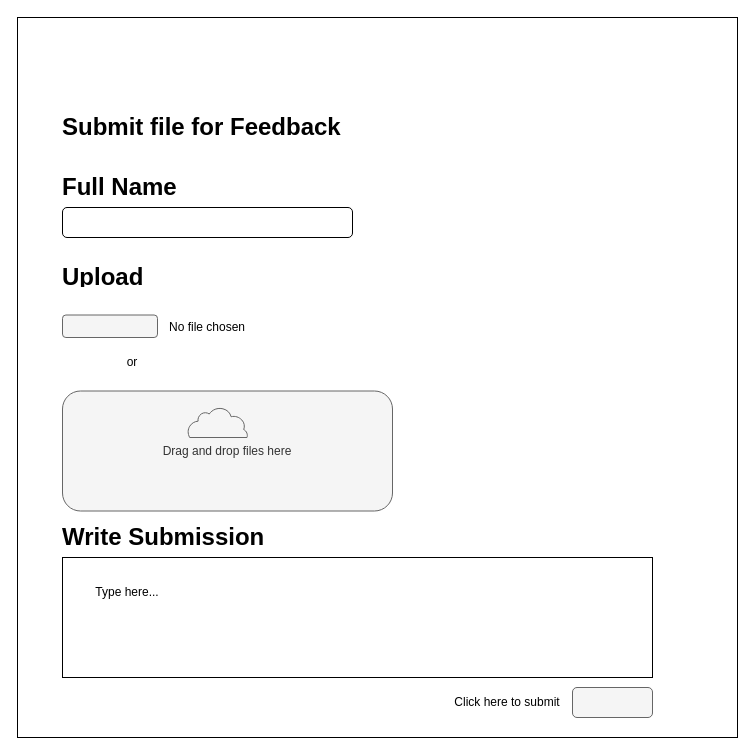
This 755x755 diagram has some shape labels left out. Here are the shapes that lost their labels. From the top down, the centre of each, then its label:
At point (110, 326): "Choose File".
At point (612, 702): "Submit".
